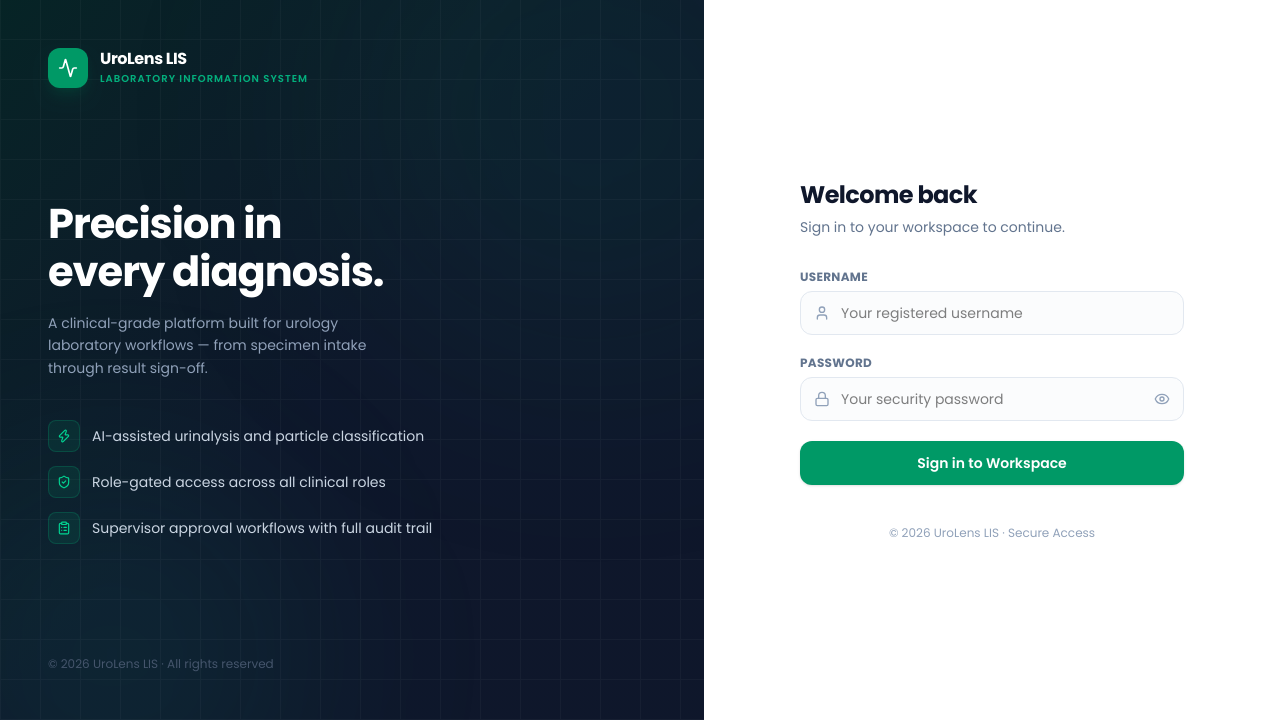
Test: LoginForm › shows username validation error when only username is empty
Type "pass" into the password field labelled "Password" at (992, 399), box x1=800 y1=377 x2=1184 y2=421
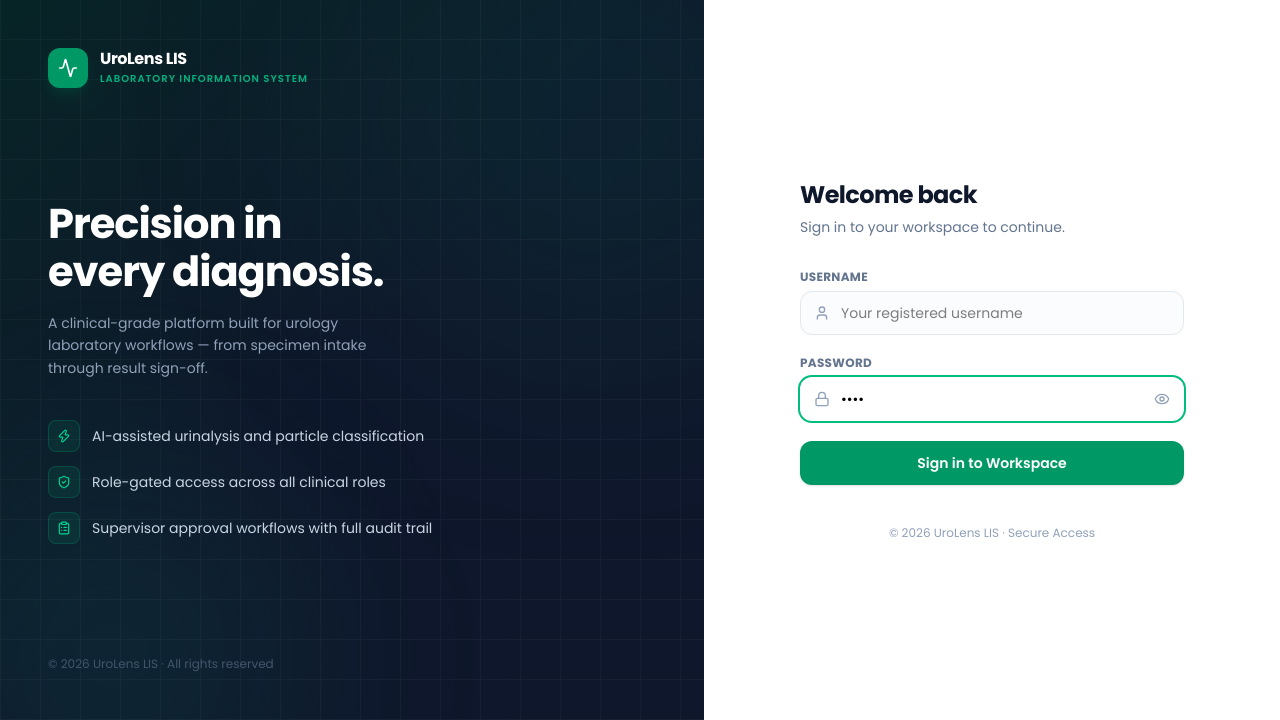
Click the button "Sign in to Workspace" at (992, 463), box x1=800 y1=441 x2=1184 y2=485
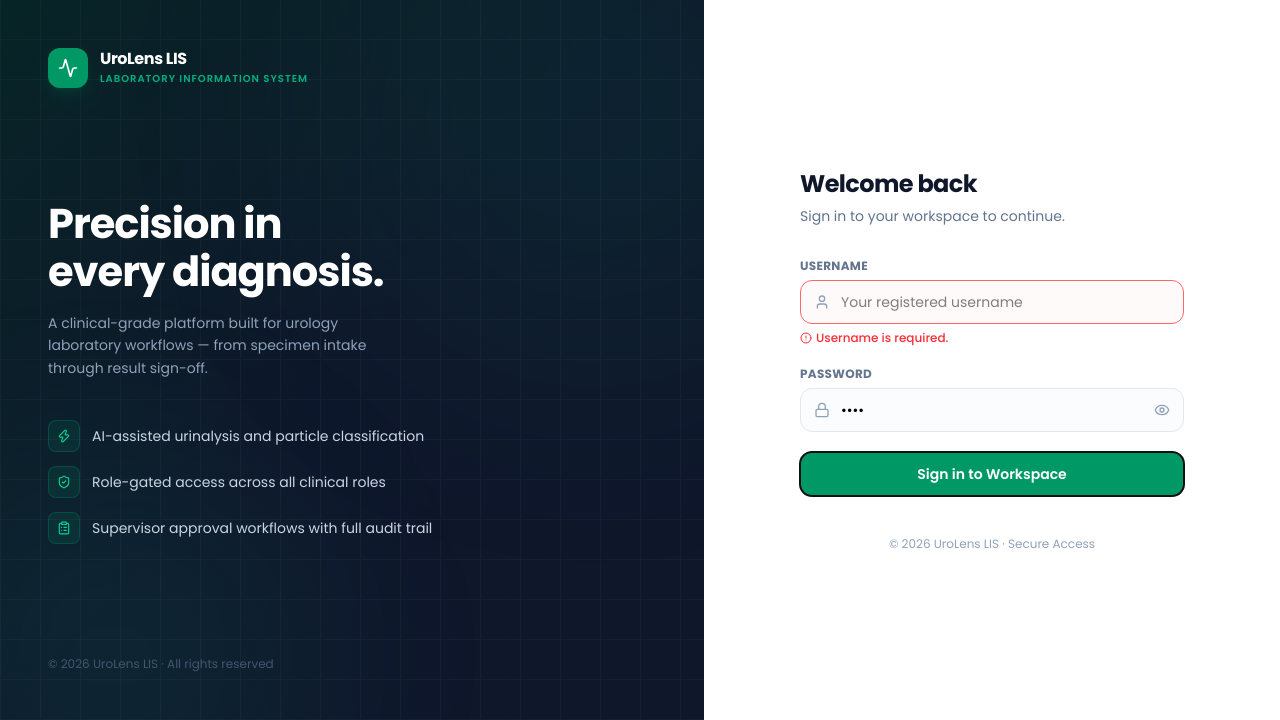
Now the text "Username is required." is shown, box x1=800 y1=329 x2=948 y2=346
